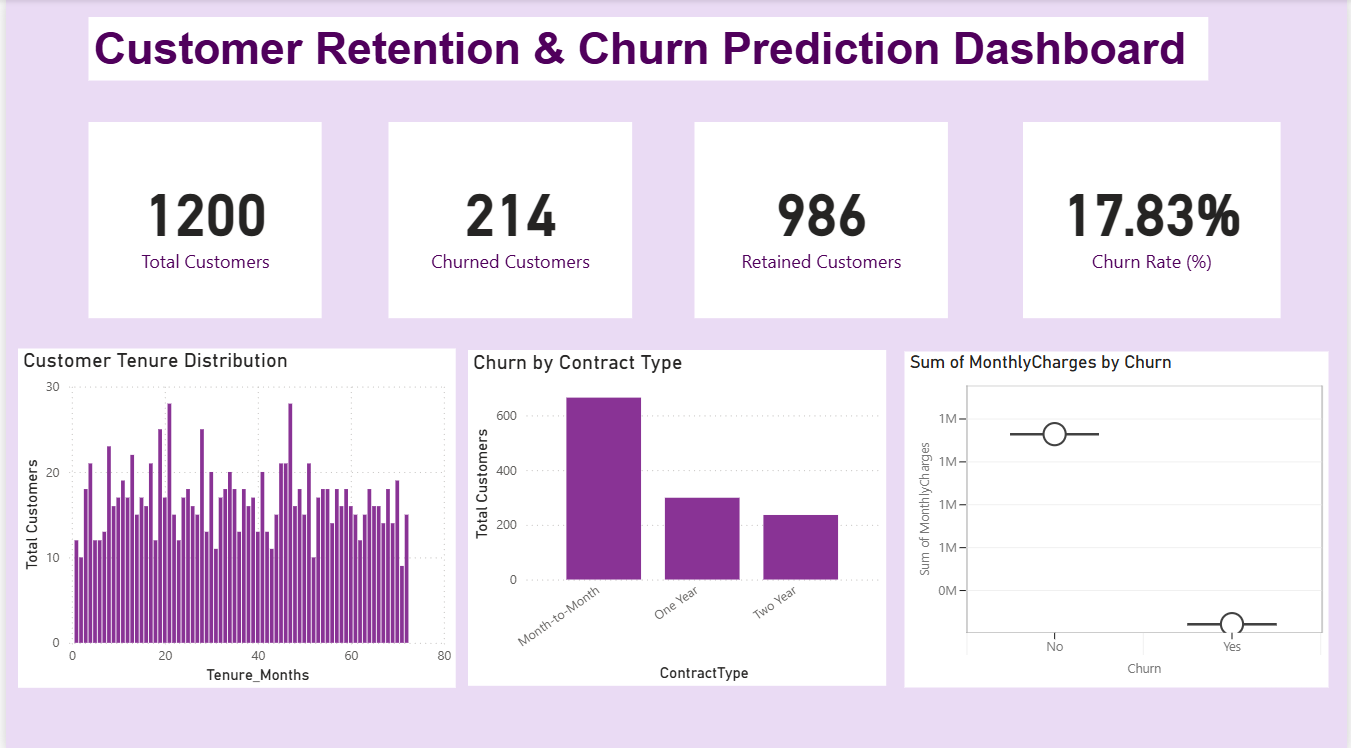

The page's visual inventory and layout, read from the dashboard file:
{"tool":"powerbi","page":{"name":"Page 1","canvas":[1280,720],"ordinal":0},"visuals":[{"type":"card","fields":{"Values":["Customers.Total Customers"]},"box":[79.4,117.2,223,187.1],"z":0},{"type":"card","fields":{"Values":["Customers.Churned Customers"]},"box":[364.7,117.2,232.4,187.1],"z":1000},{"type":"card","fields":{"Values":["Customers.Retained Customers"]},"box":[657.6,117.2,241.9,187.1],"z":2000},{"type":"card","fields":{"Values":["Customers.Churn Rate (%)"]},"box":[971.3,117.2,245.7,187.1],"z":3000},{"type":"textbox","box":[79.4,17,1069.6,60.5],"z":4000},{"type":"clusteredColumnChart","title":"Customer Tenure Distribution","fields":{"Category":["Customers.Tenure_Months"],"Y":["Customers.Total Customers"]},"box":[11.5,333.7,418.3,323.7],"z":5000},{"type":"clusteredColumnChart","title":"Churn by Contract Type","fields":{"Category":["Customers.ContractType"],"Y":["Customers.Total Customers"]},"box":[441.2,335.2,399.6,320.9],"z":6000},{"type":"BoxandWhiskerByMAQ1823AD39DT234AB532063E128AX","fields":{"categoryGroup":["Customers.Churn"],"measure":["Sum(Customers.MonthlyCharges)"]},"box":[858,336.6,403.9,320.9],"z":7000},{"type":"shape","box":[1195,656.7,66.7,63.3],"z":8000}]}

Visuals, with their boxes in screenshot pixels (x1, y1, x2, y2), scaled from the page's 1280x720 canvas onto the 1351x748 screenshot:
card - Customers.Total Customers: (left=84, top=122, right=319, bottom=316)
card - Customers.Churned Customers: (left=385, top=122, right=630, bottom=316)
card - Customers.Retained Customers: (left=694, top=122, right=949, bottom=316)
card - Customers.Churn Rate (%): (left=1025, top=122, right=1285, bottom=316)
textbox: (left=84, top=18, right=1213, bottom=81)
"Customer Tenure Distribution" clusteredColumnChart: (left=12, top=347, right=454, bottom=683)
"Churn by Contract Type" clusteredColumnChart: (left=466, top=348, right=887, bottom=682)
BoxandWhiskerByMAQ1823AD39DT234AB532063E128AX - Customers.Churn x Sum(Customers.MonthlyCharges): (left=906, top=350, right=1332, bottom=683)
shape: (left=1261, top=682, right=1332, bottom=747)
